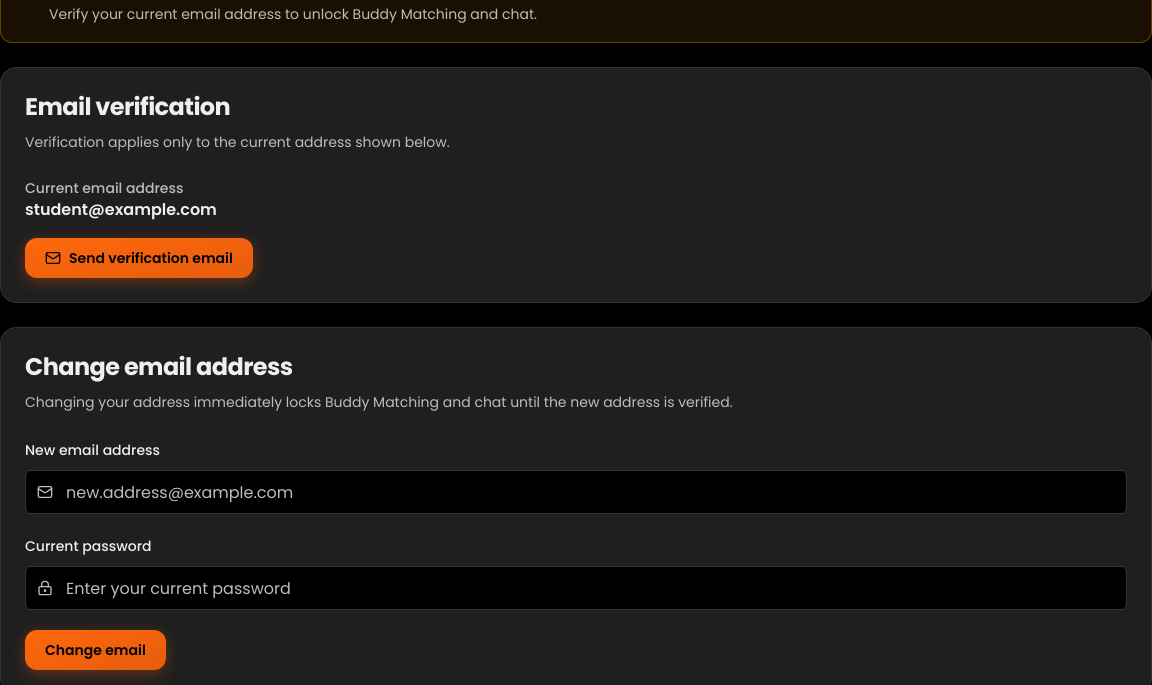
Test: EMAIL-005 settings verification UX › immediately renders the replacement address as unverified after a successful change
(page scrolled)
Type "replacement@example.com" into the field labelled "New email address" at (576, 492), box [25,470,1127,514]
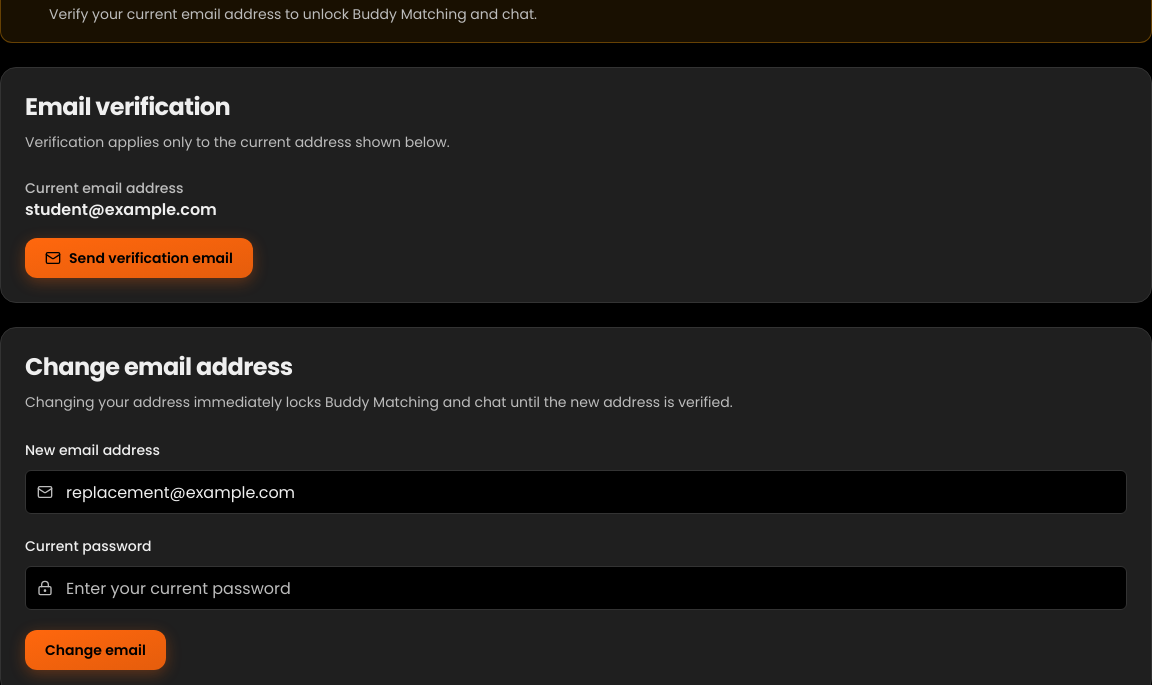
Type "fixture password" into the password field labelled "Current password" at (576, 588), box [25,566,1127,610]
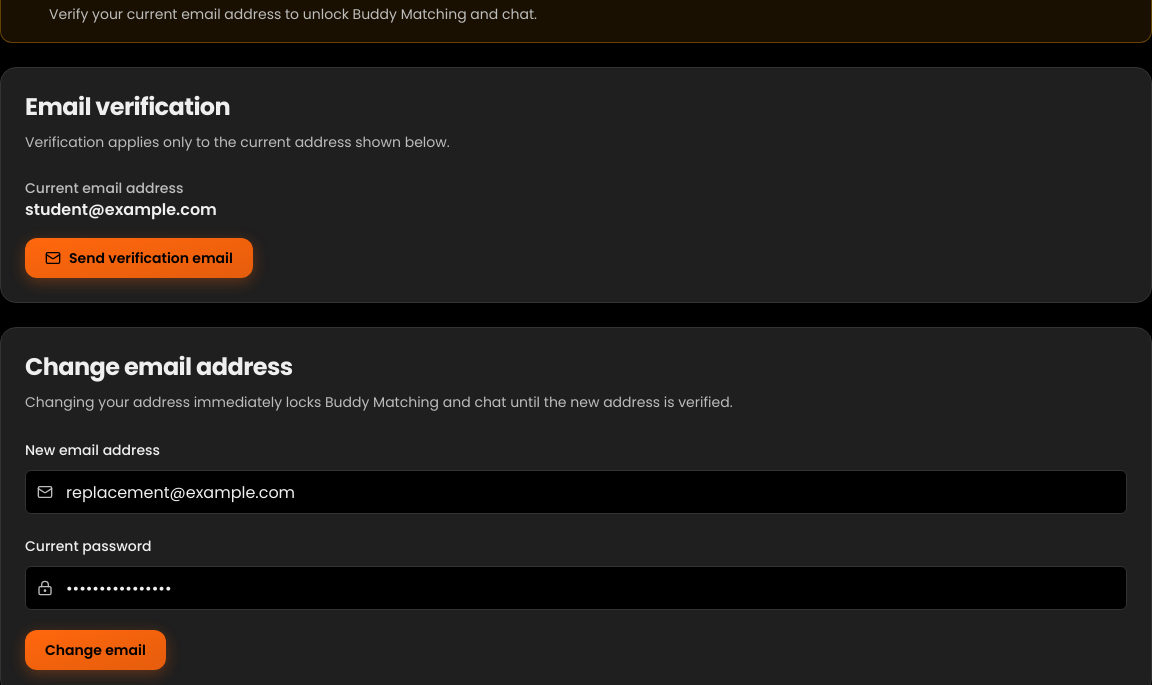
Click the button "Change email" at (95, 650), box [25,630,166,670]
(page scrolled)
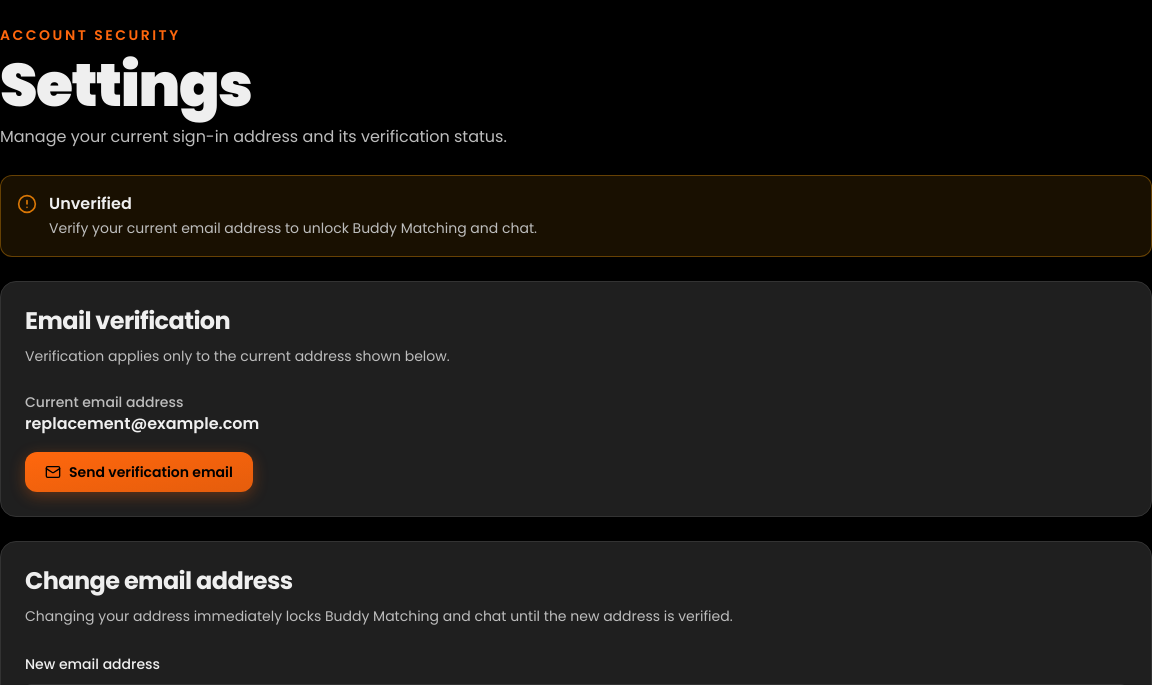
Expected: the message named "Email verification status" shows "Unverified", [49,192,132,215]
Expected: the text "replacement@example.com" is shown, [25,412,259,435]
